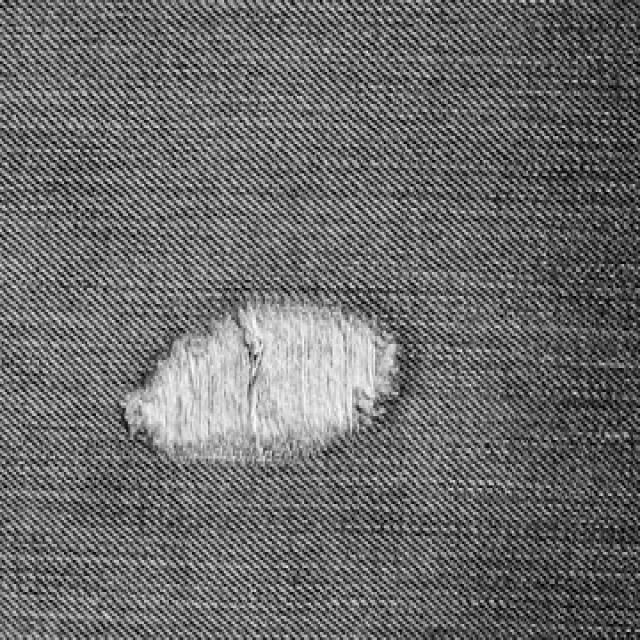Hole: (125, 299, 398, 462)
